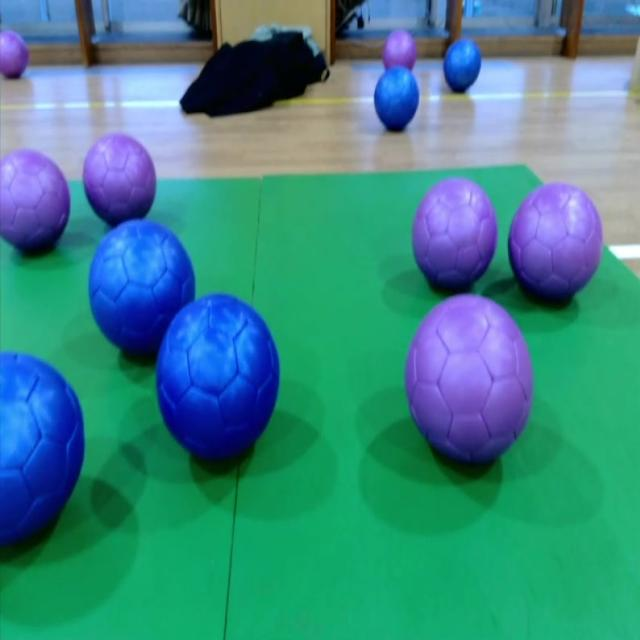blue_ball: (158, 292, 281, 460), (0, 349, 84, 538), (92, 221, 197, 351), (376, 66, 419, 130), (446, 39, 482, 89)
purple_ball: (407, 296, 534, 460), (509, 182, 604, 297), (412, 180, 497, 287), (0, 147, 70, 251), (86, 135, 156, 225), (384, 28, 416, 72), (0, 28, 28, 77)
